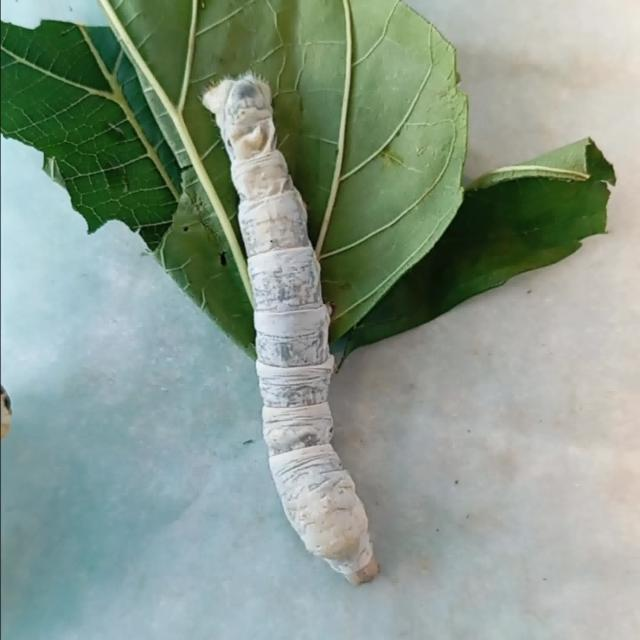Grasserie: (190, 56, 396, 588)
